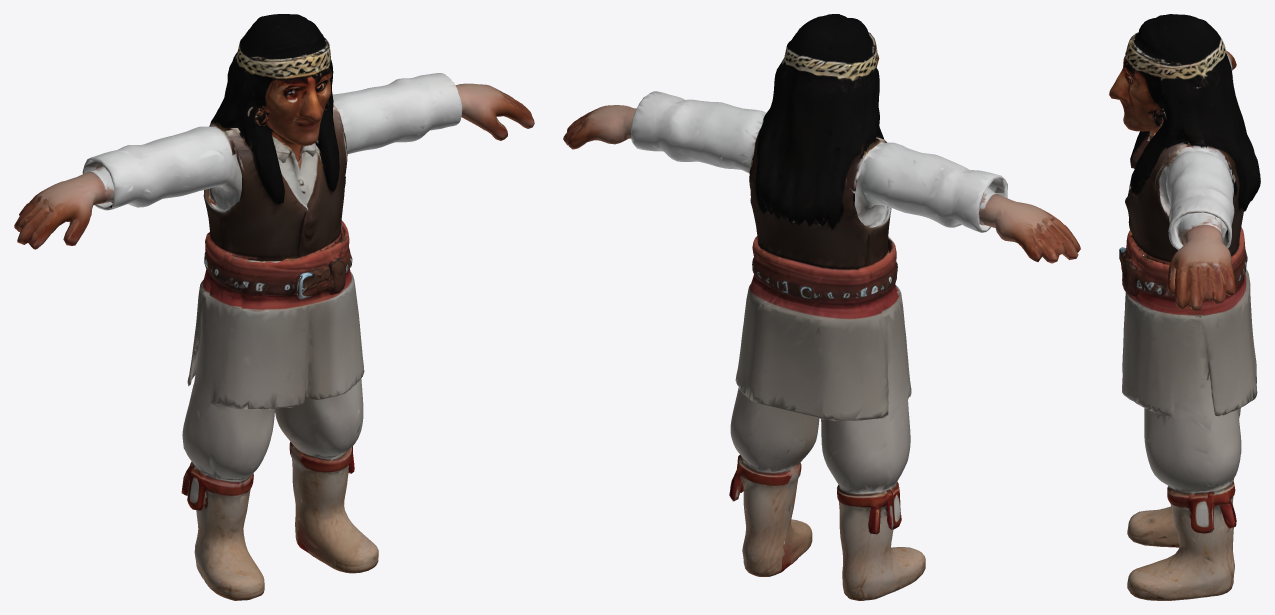
Rendered from painefil_mixamo.fbx.
3 renders of one model, left to right at view 1: azimuth 30°, elevation 25°; view 2: azimuth 150°, elevation 25°; view 3: azimuth 270°, elevation 25°, orthographic.
Parts seen in each view (by area): view 1: painefil; view 2: painefil; view 3: painefil.
Part boxes in pixels (x1,y1,x2,y2): painefil: (14, 14, 534, 600); painefil: (563, 14, 1080, 600); painefil: (1109, 14, 1260, 600).
Size of the model in its own units: 170 by 174 by 43.81.
Materials: 1 (1 with a texture image).
